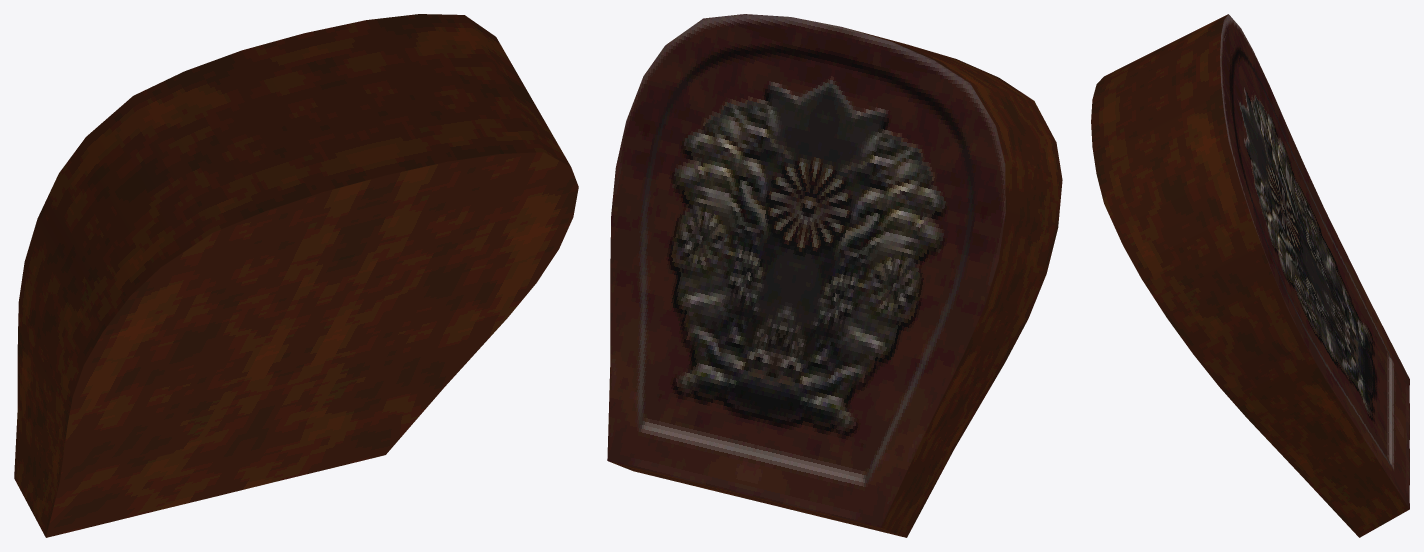
File: ps2_save-icons_g1jockey3-trainingdata.glb
3 renders of one model, left to right at view 1: azimuth 30°, elevation 25°; view 2: azimuth 150°, elevation 25°; view 3: azimuth 270°, elevation 25°, orthographic. The views are drawn at different scales.
Visible parts, largest first — view 1: trial.icn; view 2: trial.icn; view 3: trial.icn.
Boxes of the visible parts, <box> form: trial.icn: <box>14,14,578,537</box>; trial.icn: <box>607,14,1062,537</box>; trial.icn: <box>1091,14,1409,537</box>.
Bounding box in the file's own units: 4.46 × 4.73 × 3.29.
1 material, 1 textured.
